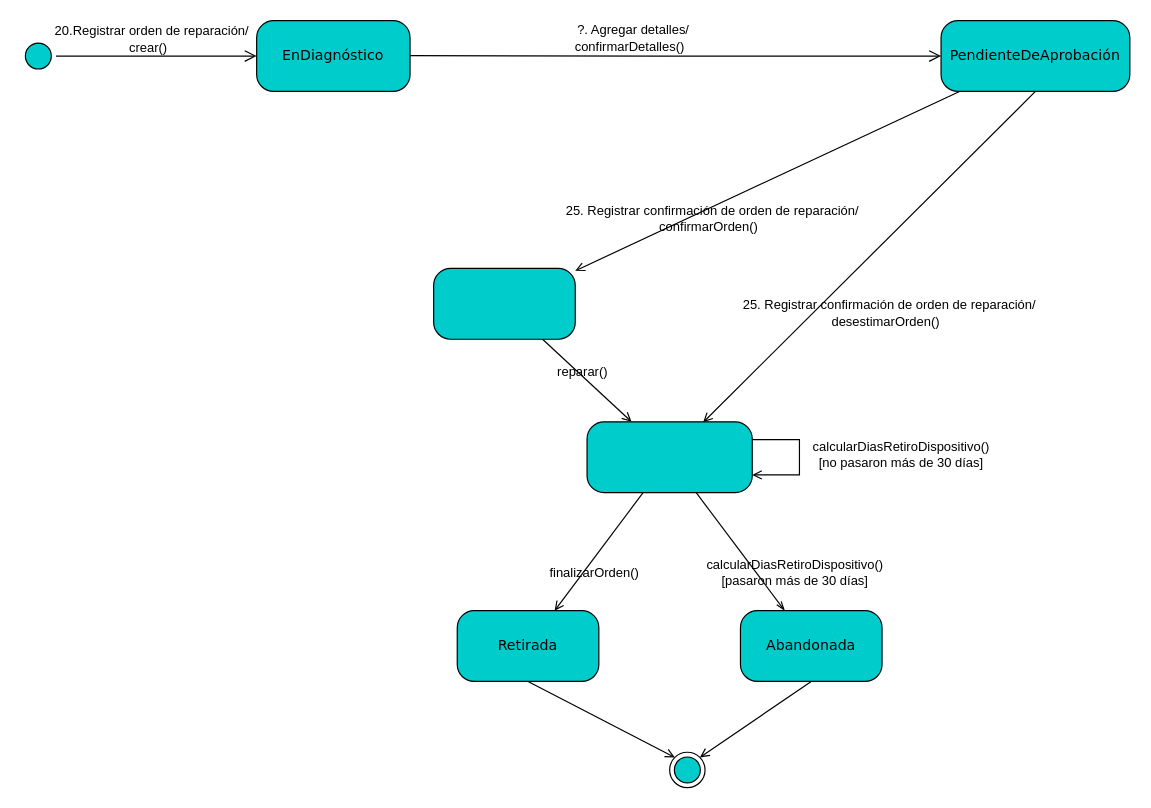
Some shapes in this 1151 by 808 pixel diagram are drawn without their labels. Each missing label, with the box of its shape:
EnReparación: (432, 267, 575, 339)
PendienteDeRetiro: (586, 421, 752, 493)
